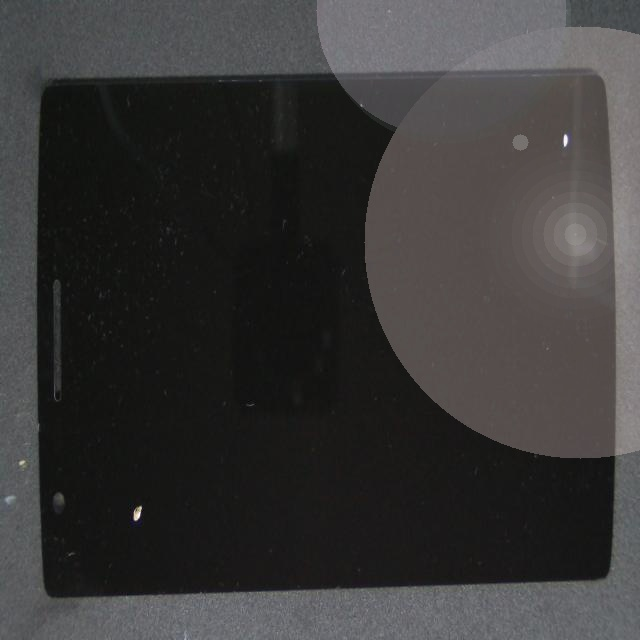stain: (252, 74, 640, 234), (83, 231, 197, 640)
